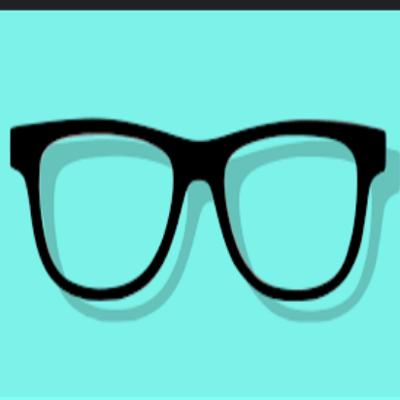glasses: (8, 111, 393, 319)
